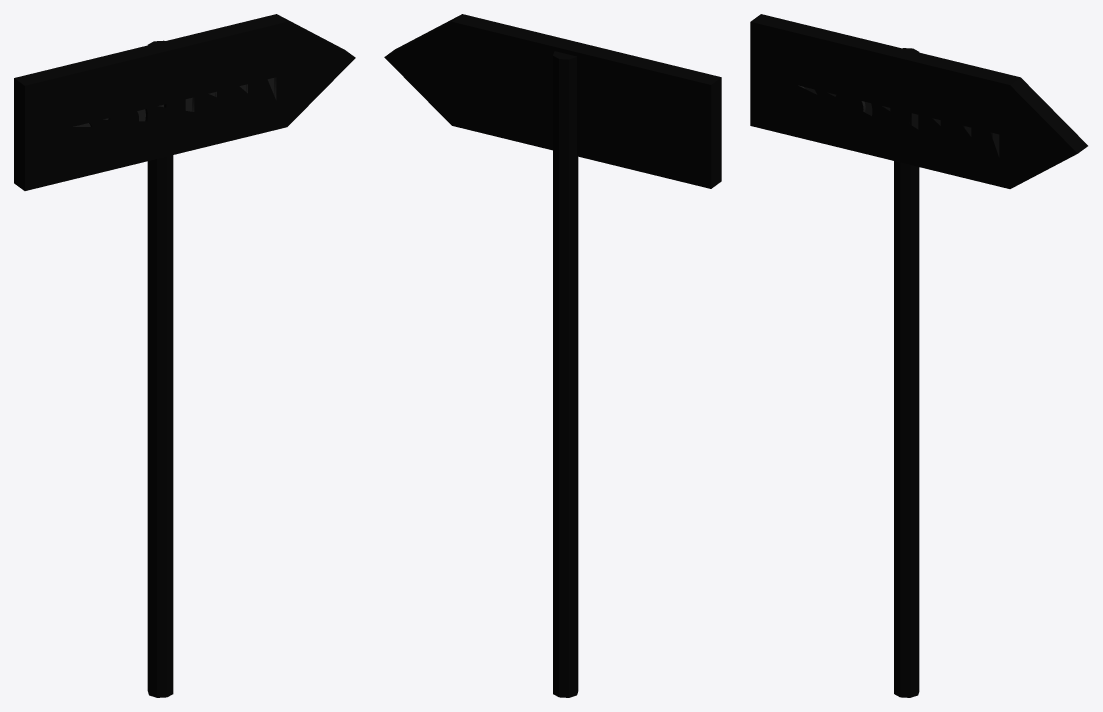
The model's file is South sign.fbx.
3 renders of one model, left to right at view 1: azimuth 30°, elevation 25°; view 2: azimuth 150°, elevation 25°; view 3: azimuth 330°, elevation 25°, orthographic.
Parts seen in each view (by area): view 1: Cube.004; view 2: Cube.004; view 3: Cube.004.
Part boxes in pixels (x1=…): Cube.004: x1=14, y1=14, x2=355, y2=697; Cube.004: x1=384, y1=14, x2=721, y2=697; Cube.004: x1=750, y1=14, x2=1087, y2=697.
Bounding box in the file's own units: 115 × 215 × 10.68.
